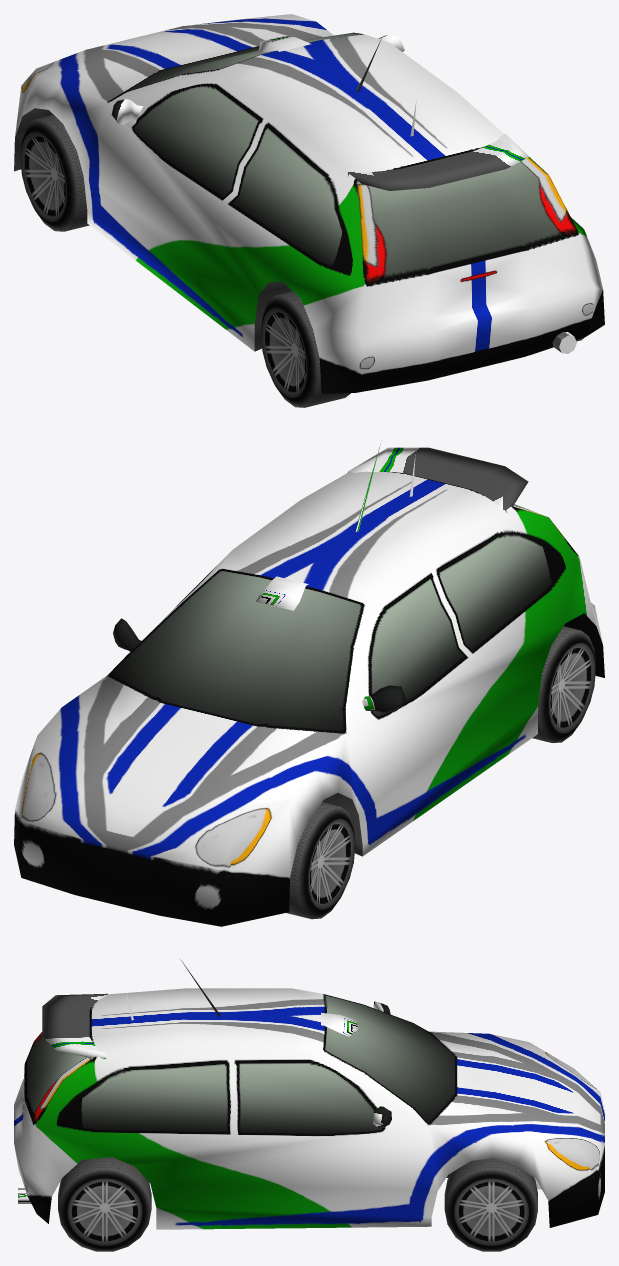
The model's file is ford_focus2.obj.
3 views of the same model, one above another, from view 1: azimuth 30°, elevation 25°; view 2: azimuth 150°, elevation 25°; view 3: azimuth 270°, elevation 25° (orthographic). The views are drawn at different scales.
Visible parts, largest first — view 1: Mesh.001_Line01, Mesh.021_Cylinder01x.007, Mesh.019_Cylinder01x.005, Mesh.003_Cylinder01, Mesh.014_Box01, Mesh.011_Box02; view 2: Mesh.001_Line01, Mesh.021_Cylinder01x.007, Mesh.019_Cylinder01x.005, Mesh.003_Cylinder01, Mesh.014_Box01, Mesh.011_Box02; view 3: Mesh.001_Line01, Mesh.020_Cylinder01x.006, Mesh.018_Cylinder01x.004, Mesh.003_Cylinder01, Mesh.014_Box01.
Part boxes in pixels (box(x1,y1,x2,y2)): Mesh.001_Line01: box(14, 14, 604, 393); Mesh.021_Cylinder01x.007: box(20, 114, 89, 231); Mesh.019_Cylinder01x.005: box(261, 291, 350, 407); Mesh.003_Cylinder01: box(348, 133, 529, 190); Mesh.014_Box01: box(258, 36, 311, 52); Mesh.011_Box02: box(111, 99, 143, 124); Mesh.001_Line01: box(14, 471, 604, 926); Mesh.021_Cylinder01x.007: box(286, 802, 355, 919); Mesh.019_Cylinder01x.005: box(532, 626, 595, 742); Mesh.003_Cylinder01: box(347, 447, 528, 512); Mesh.014_Box01: box(256, 576, 308, 610); Mesh.011_Box02: box(362, 685, 406, 713); Mesh.001_Line01: box(14, 988, 604, 1229); Mesh.020_Cylinder01x.006: box(58, 1157, 151, 1251); Mesh.018_Cylinder01x.004: box(444, 1158, 537, 1251); Mesh.003_Cylinder01: box(42, 993, 107, 1059); Mesh.014_Box01: box(321, 1012, 357, 1036).
Size of the model in its own units: 4.27 by 4.27 by 9.43.
